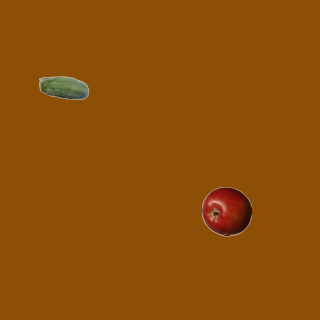Apple Braeburn: (201, 186, 251, 236)
Corn Husk: (38, 64, 88, 114)
